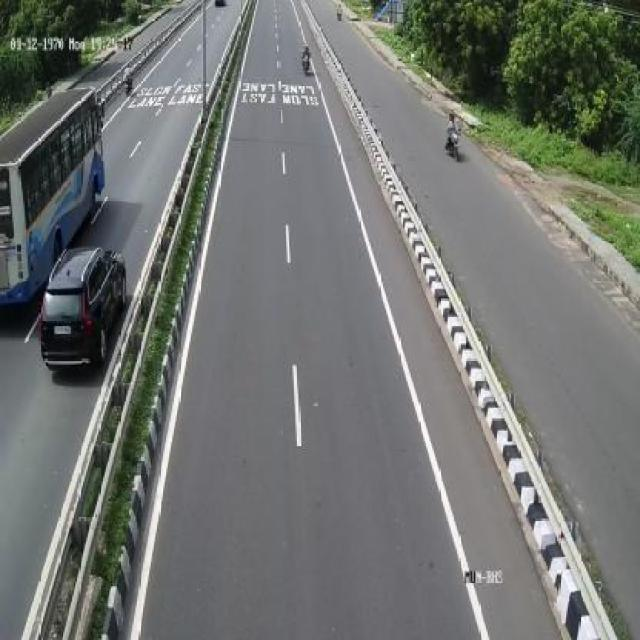car: (28, 237, 132, 369)
